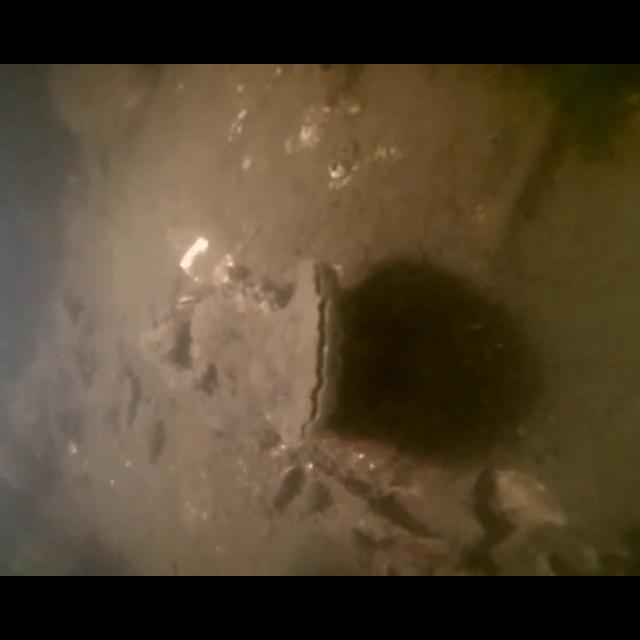Oyster-Open: (250, 258, 348, 456), (188, 279, 284, 421)
